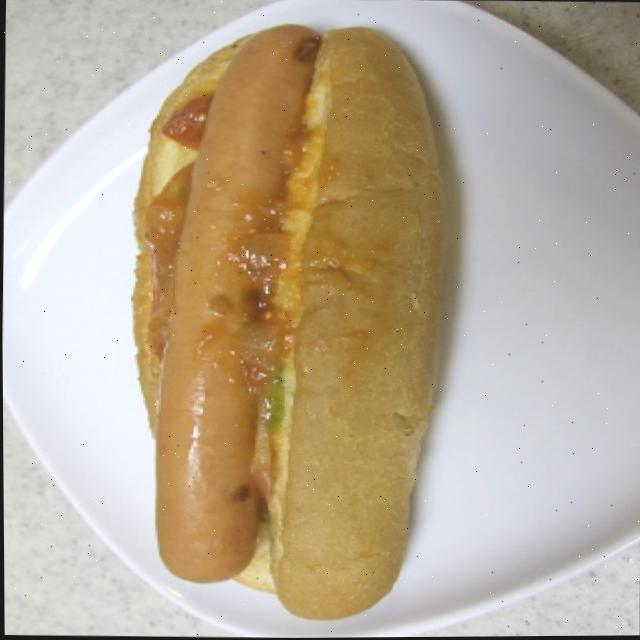汉堡快餐: (92, 12, 479, 635)
